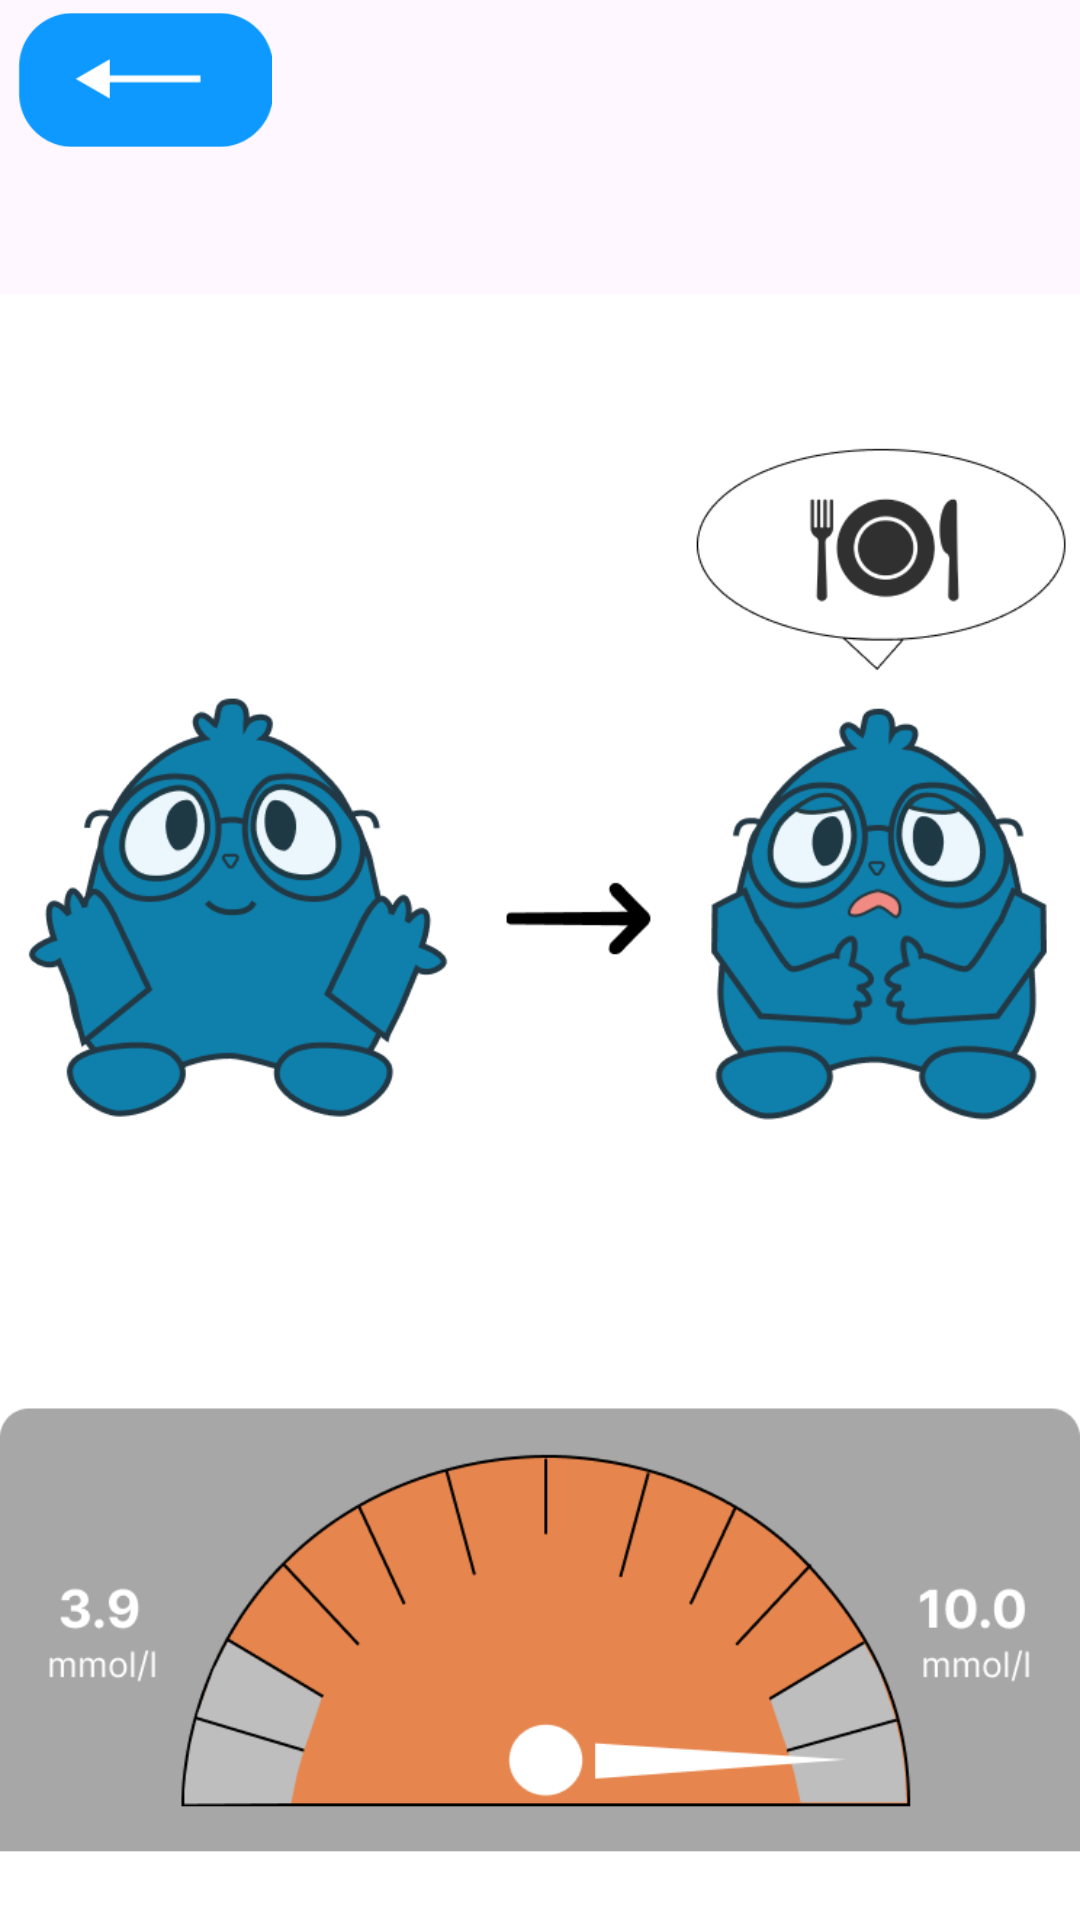

Locate icon controls on the screen. Image size 1080 × 1920, boxes as (x1, y1, x2, y2).
back: (18, 13, 272, 147)
